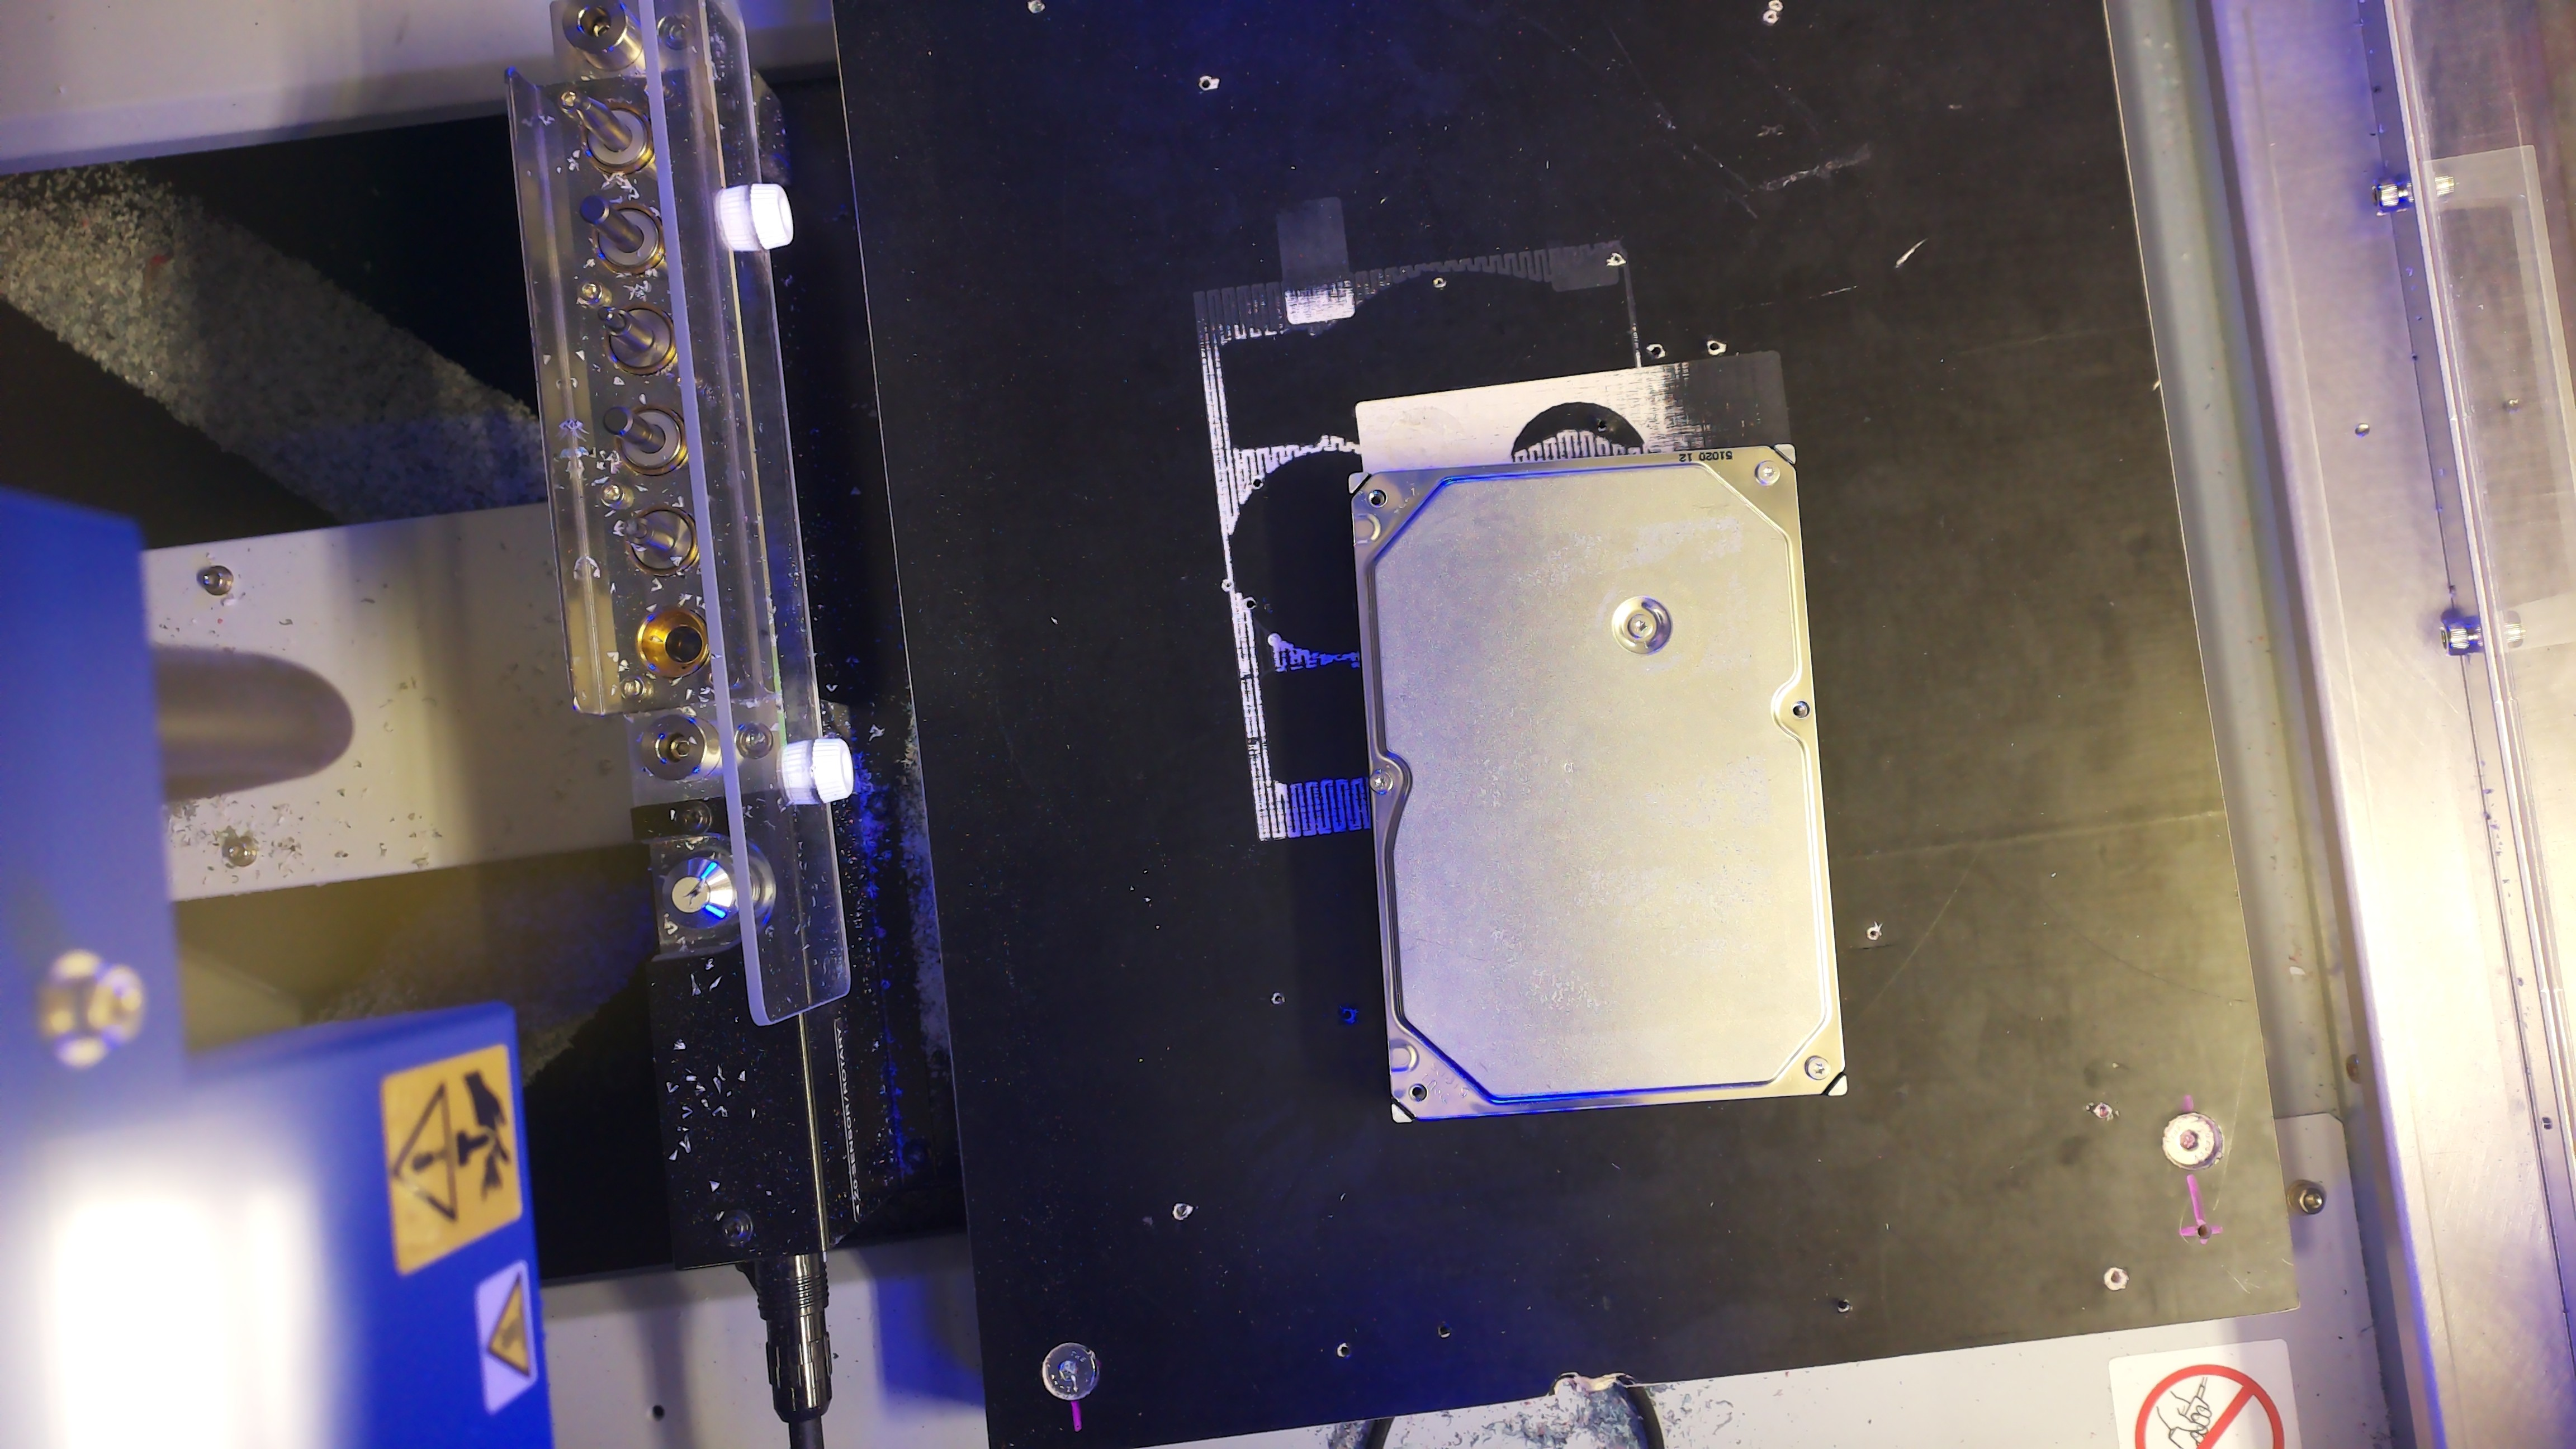Hole: (1408, 1083, 1428, 1102), (1368, 488, 1387, 508), (1790, 701, 1810, 718)
Screw: (1755, 460, 1782, 485), (1368, 770, 1392, 794), (1805, 1056, 1829, 1079), (1629, 614, 1652, 637)
